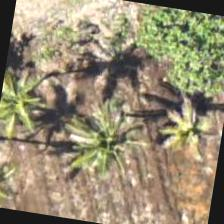Kelapa_Sawit: (57, 88, 160, 192), (146, 74, 223, 176), (0, 55, 66, 154)
